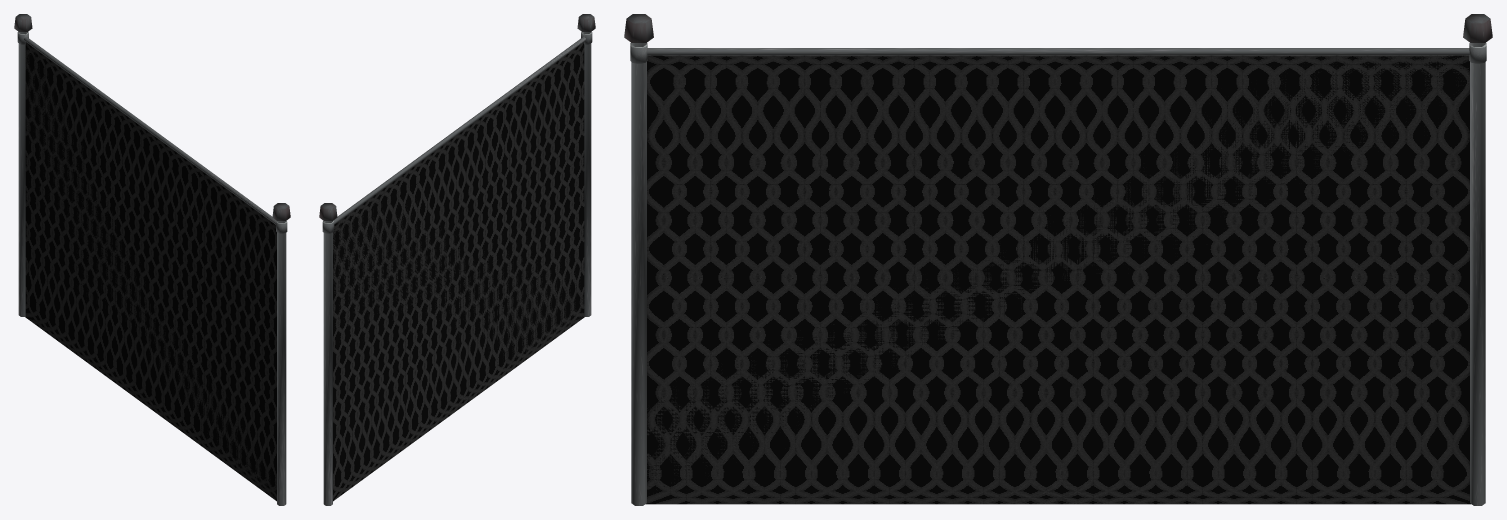
Rendered from Fence 1.fbx.
3 views of the same model, side by side, from view 1: azimuth 30°, elevation 25°; view 2: azimuth 150°, elevation 25°; view 3: azimuth 270°, elevation 25° (orthographic). The views are drawn at different scales.
Visible parts, largest first — view 1: Plane; view 2: Plane; view 3: Plane.
Part boxes in pixels (box(x1,y1,x2,y2)): Plane: box(14, 14, 290, 505); Plane: box(319, 14, 595, 505); Plane: box(624, 14, 1492, 505).
Bounding box in the file's own units: 0.2772 × 5.74 × 9.31.
2 materials, 2 textured.
